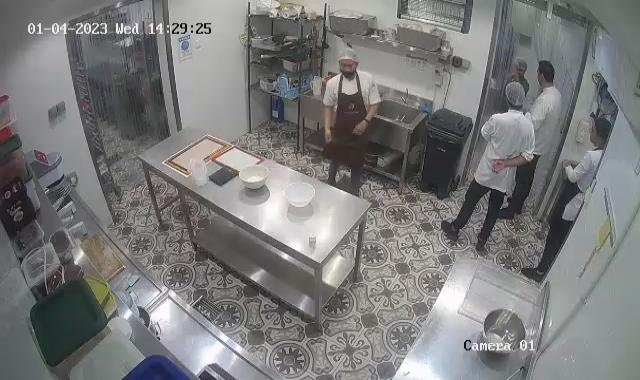hairnet: (500, 82, 527, 108), (337, 46, 358, 69), (512, 57, 530, 74)
no_hairnet: (591, 115, 611, 145), (536, 58, 556, 87)
